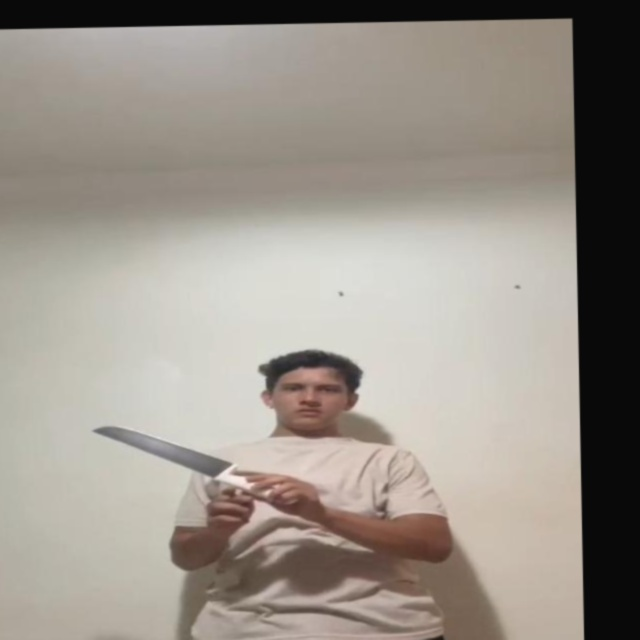Sharp-Object: (84, 421, 232, 470)
